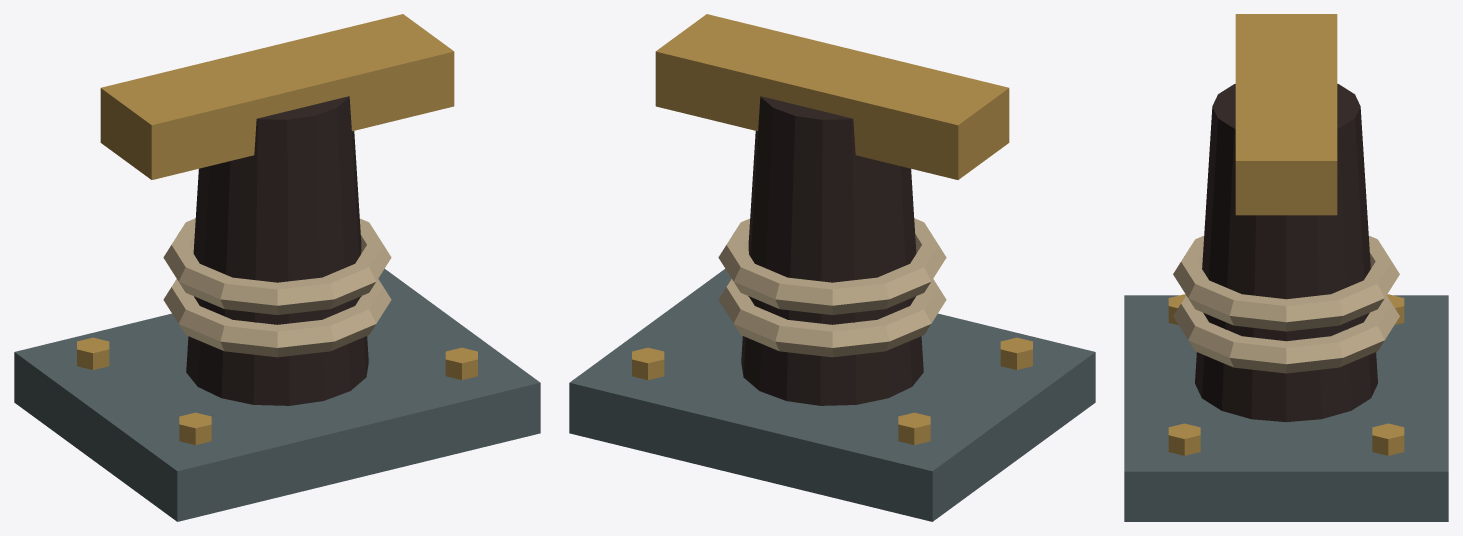
File: PirateCove_MooringBollard_Showcase.glb
3 views of the same model, side by side, from view 1: azimuth 30°, elevation 25°; view 2: azimuth 150°, elevation 25°; view 3: azimuth 270°, elevation 25° (orthographic).
Visible parts, largest first — view 1: PirateCove_MooringBollard_Showcase; view 2: PirateCove_MooringBollard_Showcase; view 3: PirateCove_MooringBollard_Showcase.
Part boxes in pixels (x1,y1,x2,y2): PirateCove_MooringBollard_Showcase: [14, 14, 540, 521]; PirateCove_MooringBollard_Showcase: [569, 14, 1095, 521]; PirateCove_MooringBollard_Showcase: [1124, 14, 1448, 521].
Bounding box in the file's own units: 0.9 × 0.825 × 0.7.
